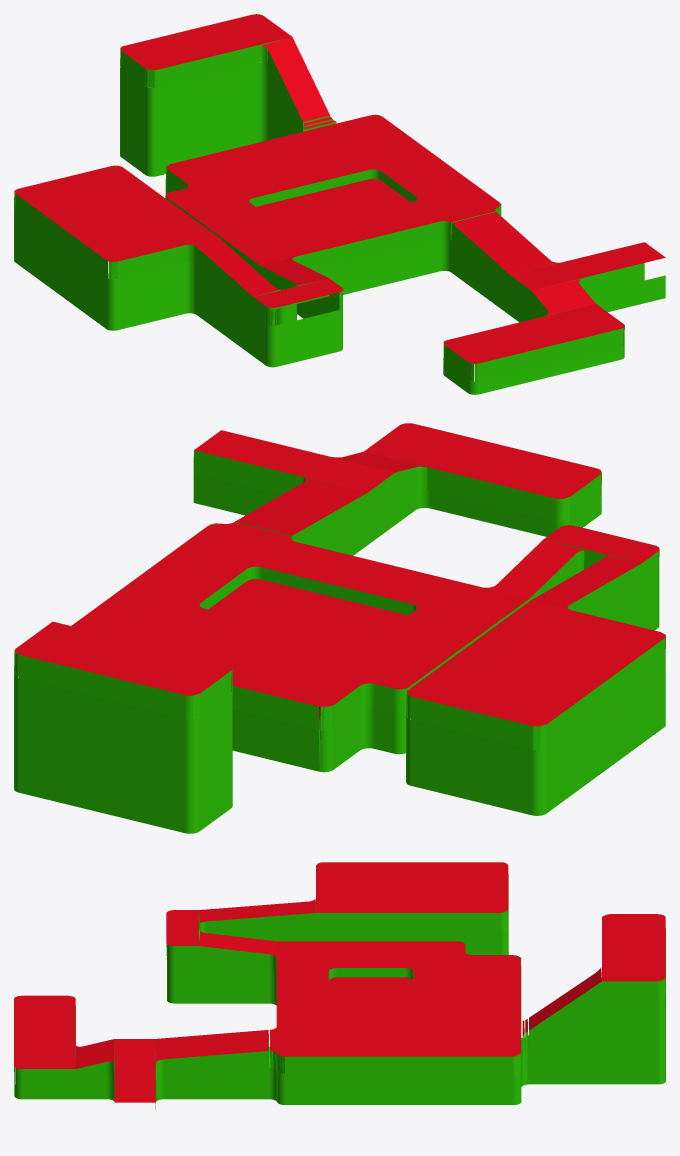
The model's file is CuevaB35.fbx.
The picture shows the model from 3 angles, top to bottom: view 1: azimuth 30°, elevation 25°; view 2: azimuth 150°, elevation 25°; view 3: azimuth 270°, elevation 25°; orthographic projection. The views are drawn at different scales.
Visible parts, largest first — view 1: Cube.004; view 2: Cube.004; view 3: Cube.004.
Boxes of the visible parts, x1,y1,x2,y2 form: Cube.004: (14,14,665,394); Cube.004: (14,423,665,833); Cube.004: (14,862,665,1109).
Bounding box in the file's own units: 21.25 × 27.49 × 4.8.
